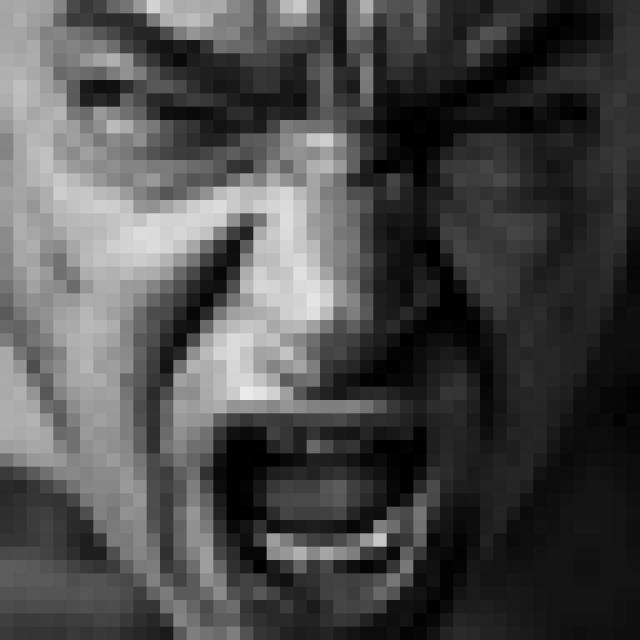angry: (51, 0, 606, 629)
